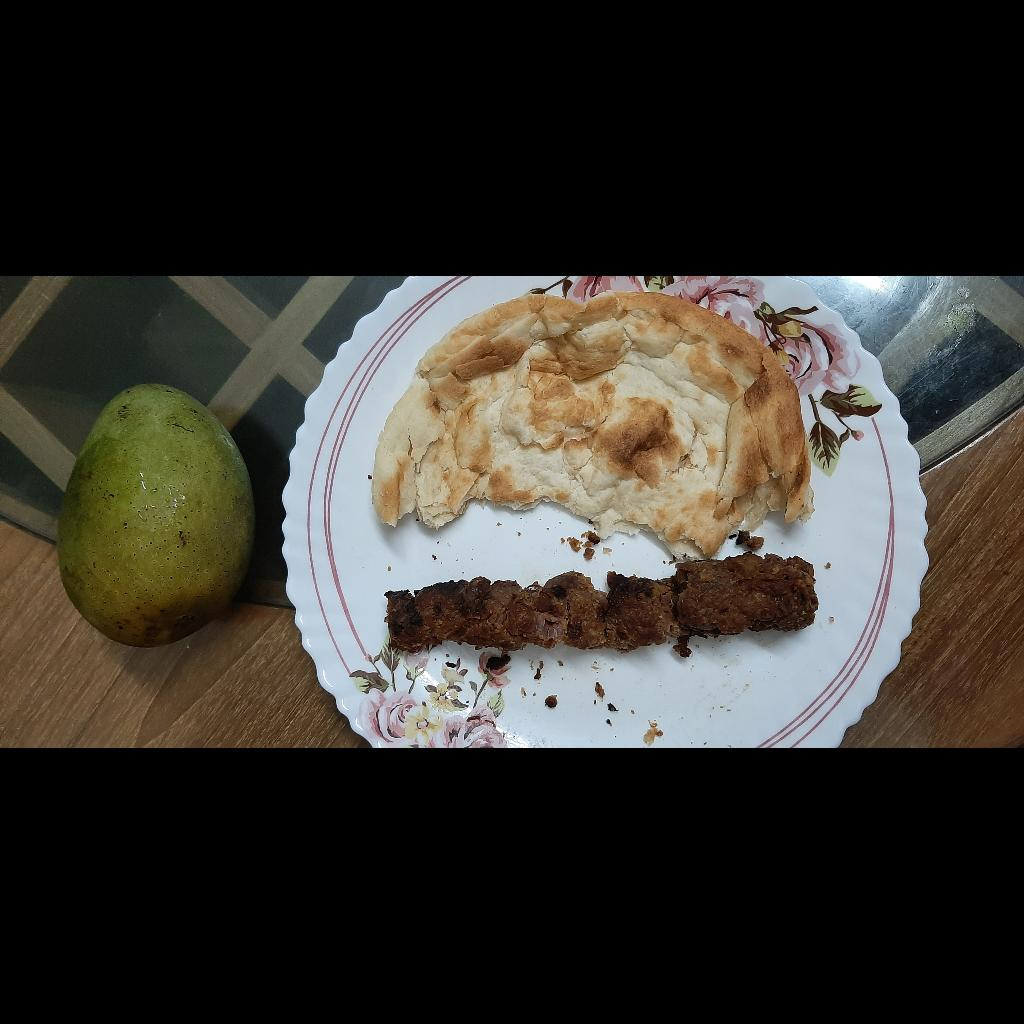beef: (96, 660, 193, 1024)
mango: (102, 333, 364, 535)
ruti: (185, 651, 455, 1024)
